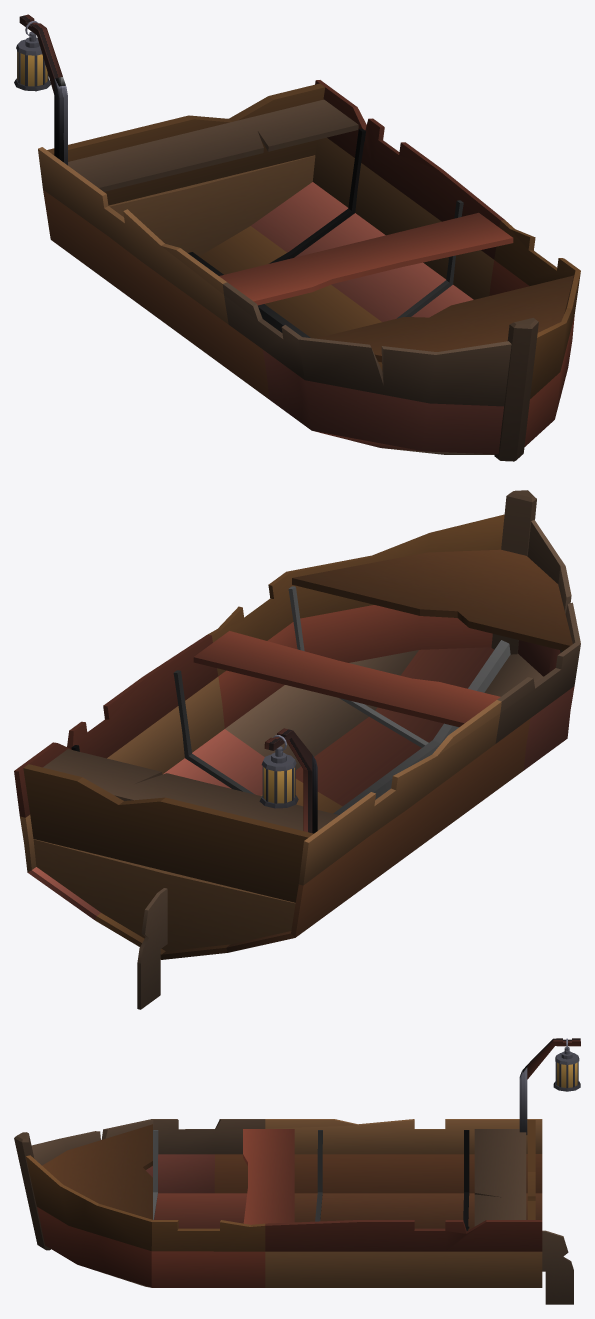
The model's file is SM_Sw_Barque_01.fbx.
3 renders of one model, top to bottom at view 1: azimuth 30°, elevation 25°; view 2: azimuth 150°, elevation 25°; view 3: azimuth 270°, elevation 25°, orthographic. The views are drawn at different scales.
Parts seen in each view (by area): view 1: SM_Sw_Barque_01; view 2: SM_Sw_Barque_01; view 3: SM_Sw_Barque_01.
Boxes of the visible parts, x1=… form: SM_Sw_Barque_01: x1=14, y1=14, x2=580, y2=461; SM_Sw_Barque_01: x1=14, y1=490, x2=580, y2=1009; SM_Sw_Barque_01: x1=14, y1=1038, x2=580, y2=1304.
Size of the model in its own units: 124 by 120 by 284.
